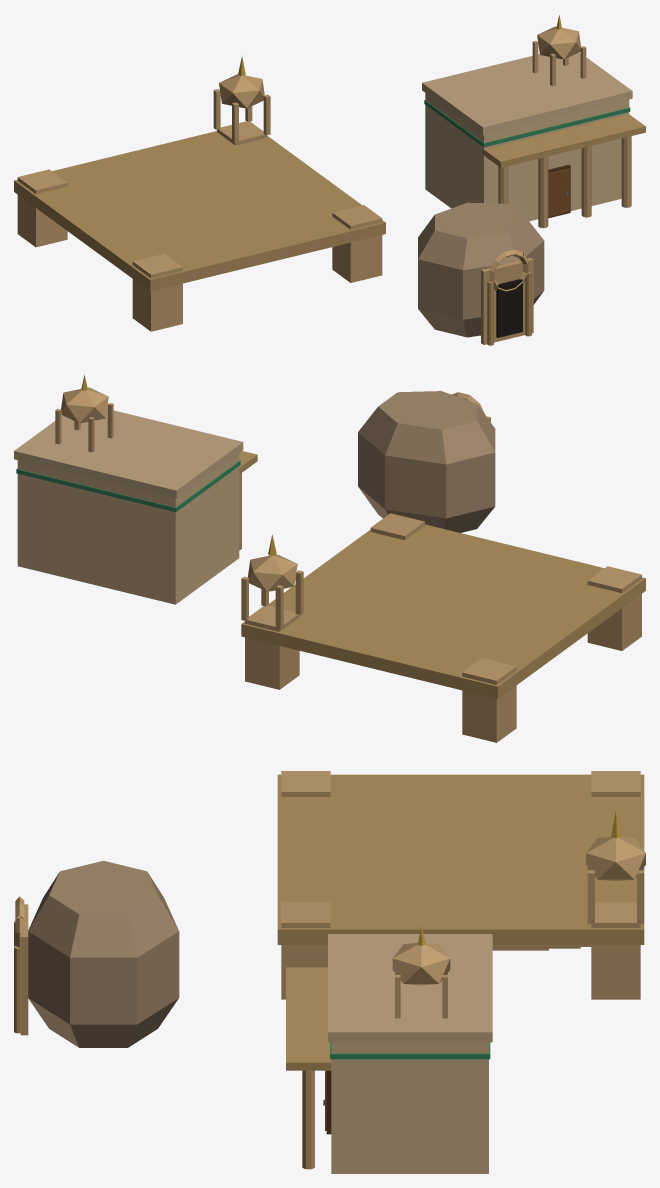
File: cat_compound_broken.glb
3 renders of one model, top to bottom at view 1: azimuth 30°, elevation 25°; view 2: azimuth 150°, elevation 25°; view 3: azimuth 270°, elevation 25°, orthographic. The views are drawn at different scales.
Visible parts, largest first — view 1: cat_compound_piece4, cat_compound_piece3, cat_compound_piece0, cat_compound_piece10, cat_compound_piece6, cat_compound_piece7, cat_compound_piece9, cat_compound_piece2, cat_compound_piece5, cat_compound_piece1, cat_compound_piece8, cat_compound_piece13 (+1 smaller); view 2: cat_compound_piece0, cat_compound_piece7, cat_compound_piece6, cat_compound_piece4, cat_compound_piece10, cat_compound_piece13, cat_compound_piece9, cat_compound_piece3, cat_compound_piece2, cat_compound_piece5, cat_compound_piece1, cat_compound_piece8 (+1 smaller); view 3: cat_compound_piece0, cat_compound_piece1, cat_compound_piece10, cat_compound_piece6, cat_compound_piece7, cat_compound_piece9, cat_compound_piece4, cat_compound_piece3, cat_compound_piece2, cat_compound_piece5, cat_compound_piece8, cat_compound_piece13.
Part boxes in pixels (<box>): cat_compound_piece4: <box>279,202,537,345</box>; cat_compound_piece3: <box>360,106,631,210</box>; cat_compound_piece0: <box>422,15,645,186</box>; cat_compound_piece10: <box>115,202,289,324</box>; cat_compound_piece6: <box>14,169,194,331</box>; cat_compound_piece7: <box>17,104,299,236</box>; cat_compound_piece9: <box>146,166,361,221</box>; cat_compound_piece2: <box>201,55,560,138</box>; cat_compound_piece5: <box>292,205,385,282</box>; cat_compound_piece1: <box>487,166,631,336</box>; cat_compound_piece8: <box>53,159,308,243</box>; cat_compound_piece13: <box>229,85,434,176</box>; cat_compound_piece0: <box>14,374,200,576</box>; cat_compound_piece7: <box>247,571,501,742</box>; cat_compound_piece6: <box>447,602,641,739</box>; cat_compound_piece4: <box>385,391,495,559</box>; cat_compound_piece10: <box>439,541,645,624</box>; cat_compound_piece13: <box>60,492,280,681</box>; cat_compound_piece9: <box>306,528,452,627</box>; cat_compound_piece3: <box>171,424,375,588</box>; cat_compound_piece2: <box>158,421,302,646</box>; cat_compound_piece5: <box>368,453,461,553</box>; cat_compound_piece1: <box>232,401,405,562</box>; cat_compound_piece8: <box>303,576,455,643</box>; cat_compound_piece0: <box>286,925,492,1173</box>; cat_compound_piece1: <box>14,904,330,1169</box>; cat_compound_piece10: <box>277,771,461,879</box>; cat_compound_piece6: <box>373,771,644,849</box>; cat_compound_piece7: <box>509,796,644,999</box>; cat_compound_piece9: <box>329,831,522,933</box>; cat_compound_piece4: <box>14,860,359,1020</box>; cat_compound_piece3: <box>286,920,403,1173</box>; cat_compound_piece2: <box>328,811,645,984</box>; cat_compound_piece5: <box>147,884,344,1035</box>; cat_compound_piece8: <box>482,820,559,950</box>; cat_compound_piece13: <box>591,882,644,999</box>.
Size of the model in its own units: 5.52 by 1.79 by 4.48.
